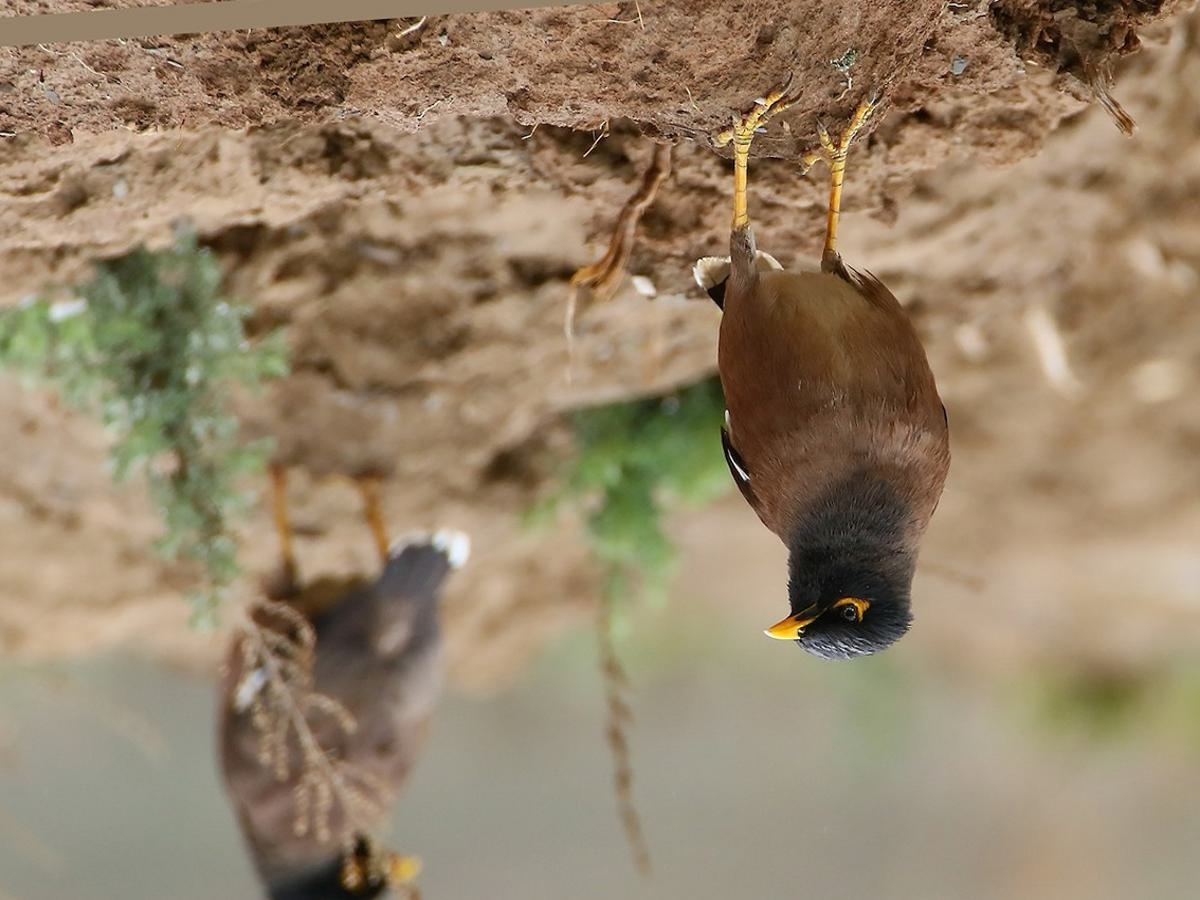myna: (699, 88, 959, 688)
